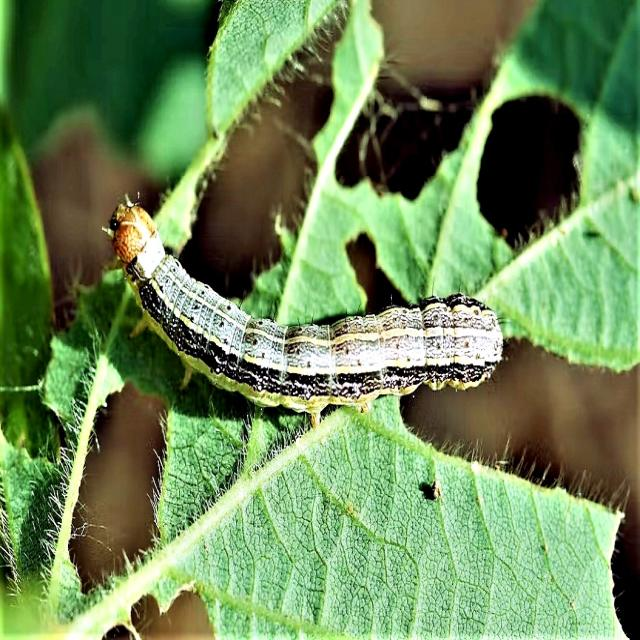armyworm: (101, 192, 504, 424)
